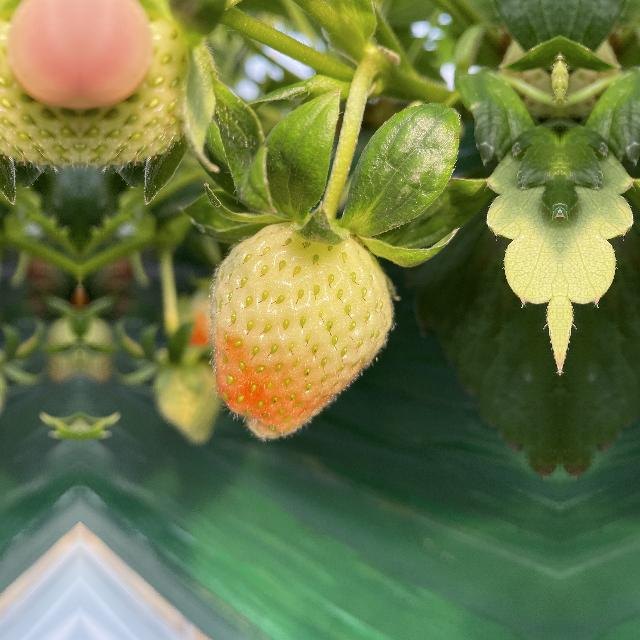Health_50: (204, 198, 402, 430)
